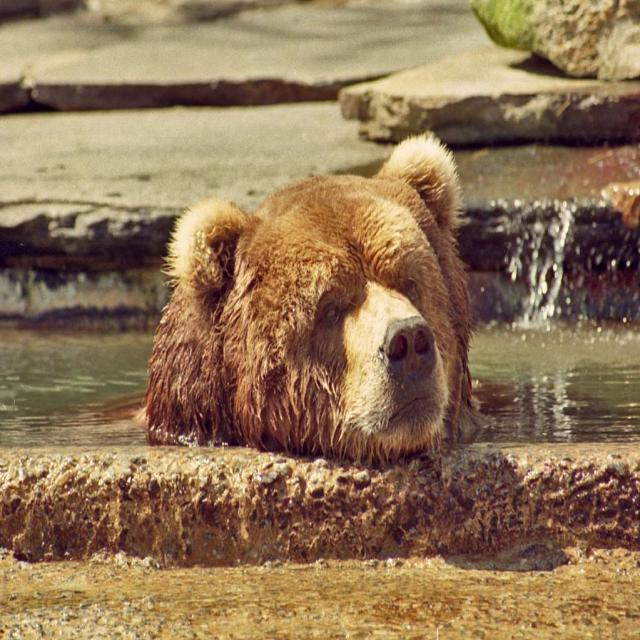Bear: (141, 133, 480, 472)
